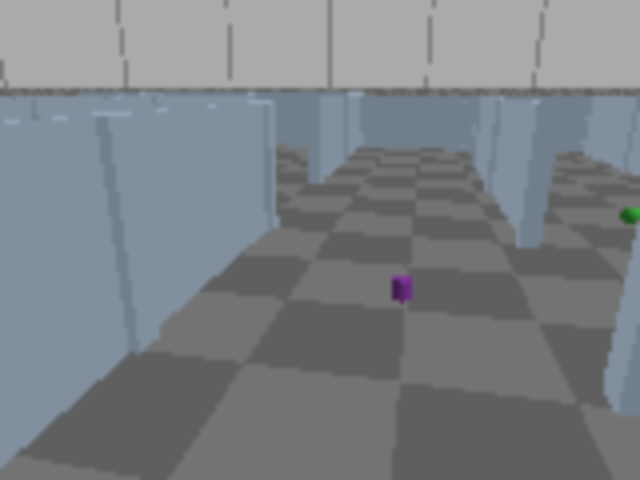puck: (617, 205, 638, 227), (394, 276, 412, 301)
